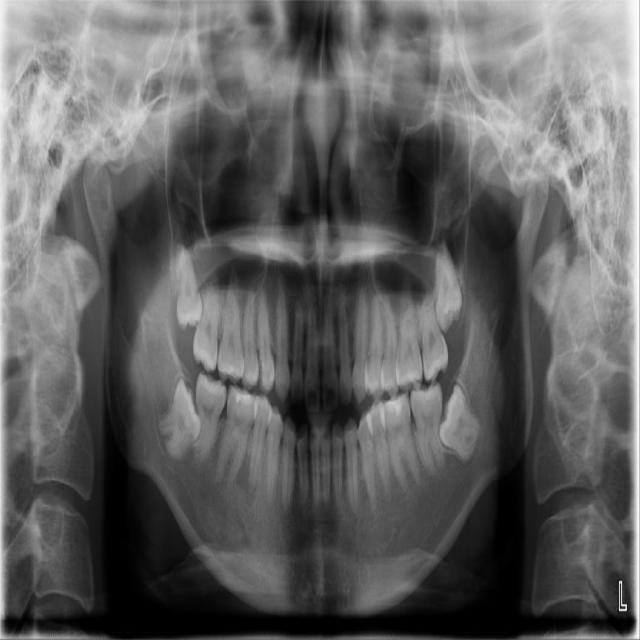impacted tooth: (155, 377, 205, 456), (440, 385, 482, 460), (435, 239, 462, 329), (177, 247, 203, 328)
